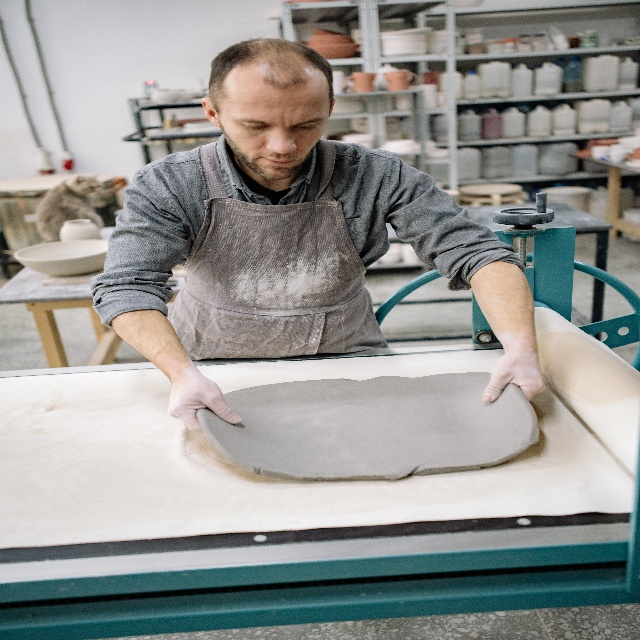Sin_guantes: (166, 366, 241, 431), (481, 345, 545, 404)
